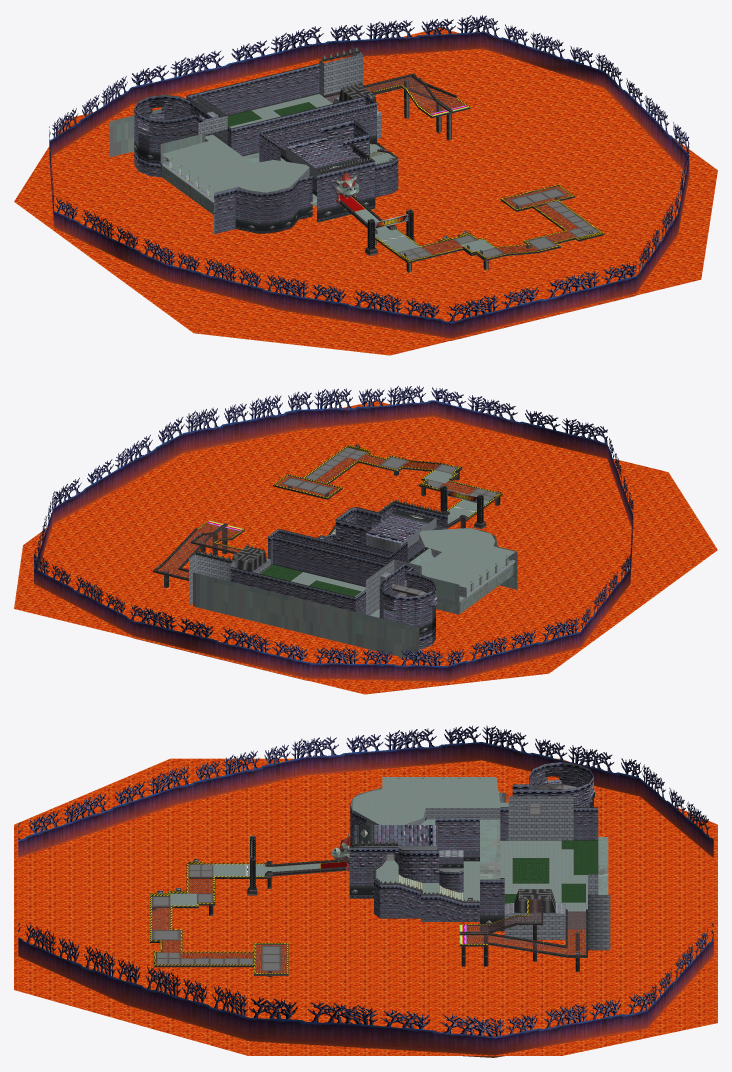
Rendered from bowser.obj.
The picture shows the model from 3 angles, top to bottom: view 1: azimuth 30°, elevation 25°; view 2: azimuth 150°, elevation 25°; view 3: azimuth 270°, elevation 25°; orthographic projection. The views are drawn at different scales.
Parts seen in each view (by area): view 1: koopa_course.007, koopa_course.009, koopa_course, koopa_course.018, koopa_course.016, koopa_course.012, koopa_course.021, koopa_course.014, koopa_course.017, koopa_course.019, koopa_course.015, koopa_course.010; view 2: koopa_course.007, koopa_course.009, koopa_course.018, koopa_course, koopa_course.016, koopa_course.012, koopa_course.014, koopa_course.021, koopa_course.019, koopa_course.017, koopa_course.010, koopa_course.015; view 3: koopa_course.007, koopa_course.009, koopa_course, koopa_course.018, koopa_course.016, koopa_course.012, koopa_course.021, koopa_course.014, koopa_course.010, koopa_course.017, koopa_course.019, koopa_course.015.
Part boxes in pixels (x1=…): koopa_course.007: x1=14, y1=27, x2=717, y2=355; koopa_course.009: x1=49, y1=15, x2=689, y2=340; koopa_course: x1=134, y1=63, x2=398, y2=233; koopa_course.018: x1=109, y1=94, x2=494, y2=252; koopa_course.016: x1=162, y1=46, x2=381, y2=200; koopa_course.012: x1=326, y1=77, x2=577, y2=254; koopa_course.021: x1=179, y1=73, x2=604, y2=263; koopa_course.014: x1=138, y1=127, x2=599, y2=260; koopa_course.017: x1=371, y1=84, x2=603, y2=261; koopa_course.019: x1=339, y1=80, x2=560, y2=272; koopa_course.015: x1=319, y1=47, x2=413, y2=222; koopa_course.010: x1=227, y1=102, x2=316, y2=126; koopa_course.007: x1=14, y1=401, x2=717, y2=694; koopa_course.009: x1=34, y1=385, x2=633, y2=681; koopa_course.018: x1=193, y1=470, x2=516, y2=660; koopa_course: x1=230, y1=502, x2=517, y2=649; koopa_course.016: x1=189, y1=517, x2=515, y2=615; koopa_course.012: x1=157, y1=454, x2=476, y2=577; koopa_course.014: x1=282, y1=447, x2=495, y2=611; koopa_course.021: x1=153, y1=452, x2=502, y2=595; koopa_course.019: x1=164, y1=471, x2=500, y2=587; koopa_course.017: x1=197, y1=445, x2=501, y2=549; koopa_course.010: x1=260, y1=564, x2=361, y2=596; koopa_course.015: x1=195, y1=485, x2=483, y2=563; koopa_course.007: x1=14, y1=758, x2=717, y2=1055; koopa_course.009: x1=18, y1=725, x2=713, y2=1057; koopa_course: x1=349, y1=762, x2=598, y2=931; koopa_course.018: x1=170, y1=777, x2=608, y2=911; koopa_course.016: x1=353, y1=796, x2=610, y2=950; koopa_course.012: x1=152, y1=877, x2=585, y2=972; koopa_course.021: x1=150, y1=788, x2=587, y2=975; koopa_course.014: x1=152, y1=784, x2=577, y2=970; koopa_course.010: x1=504, y1=840, x2=598, y2=903; koopa_course.017: x1=150, y1=861, x2=528, y2=973; koopa_course.019: x1=152, y1=862, x2=579, y2=976; koopa_course.015: x1=250, y1=817, x2=479, y2=902.
Size of the model in its own units: 108 by 11.22 by 108.
